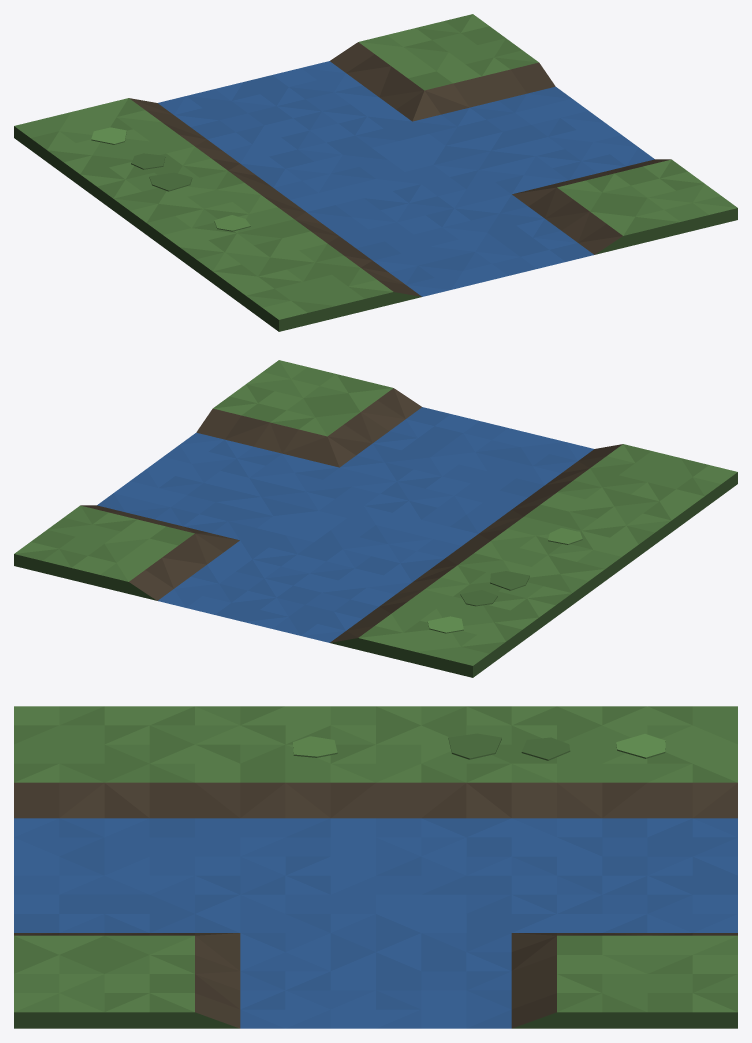
Rendered from river_junction_grass.glb.
3 renders of one model, top to bottom at view 1: azimuth 30°, elevation 25°; view 2: azimuth 150°, elevation 25°; view 3: azimuth 270°, elevation 25°, orthographic. The views are drawn at different scales.
Parts seen in each view (by area): view 1: river_junction_grass; view 2: river_junction_grass; view 3: river_junction_grass.
Boxes of the visible parts, x1,y1,x2,y2 form: river_junction_grass: [14, 14, 737, 331]; river_junction_grass: [14, 360, 737, 677]; river_junction_grass: [14, 706, 737, 1028].
Size of the model in its own units: 4 by 0.108 by 4.
